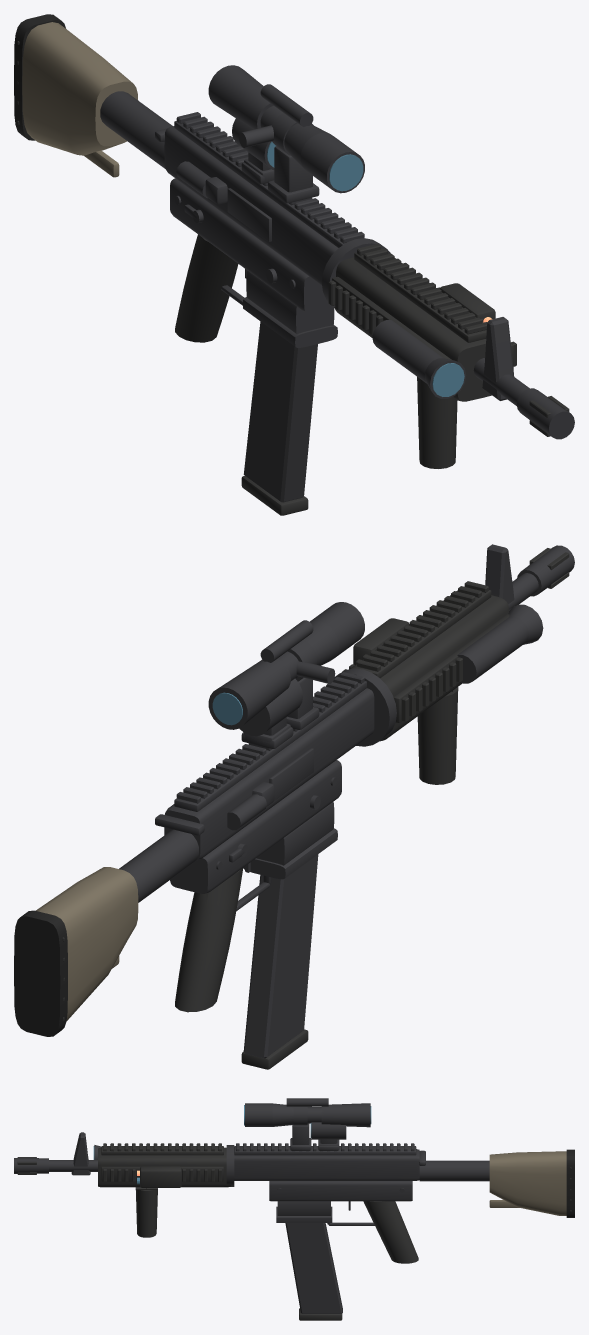
File: raven.glb
3 renders of one model, top to bottom at view 1: azimuth 30°, elevation 25°; view 2: azimuth 150°, elevation 25°; view 3: azimuth 270°, elevation 25°, orthographic. The views are drawn at different scales.
Visible parts, largest first — view 1: Body, opt_scope, opt_laser; view 2: Body, opt_scope, opt_laser; view 3: Body, opt_scope, opt_laser.
Part boxes in pixels (x1,y1,x2,y2): Body: (14, 14, 574, 515); opt_scope: (208, 65, 364, 203); opt_laser: (439, 283, 495, 322); Body: (14, 544, 574, 1069); opt_scope: (208, 602, 364, 748); opt_laser: (353, 618, 409, 664); Body: (14, 1122, 574, 1320); opt_scope: (244, 1098, 371, 1150); opt_laser: (137, 1166, 181, 1187).
Size of the model in its own units: 0.097 by 0.345 by 0.802.
